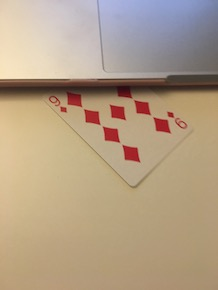NineOfDiamonds: (39, 79, 193, 188)
